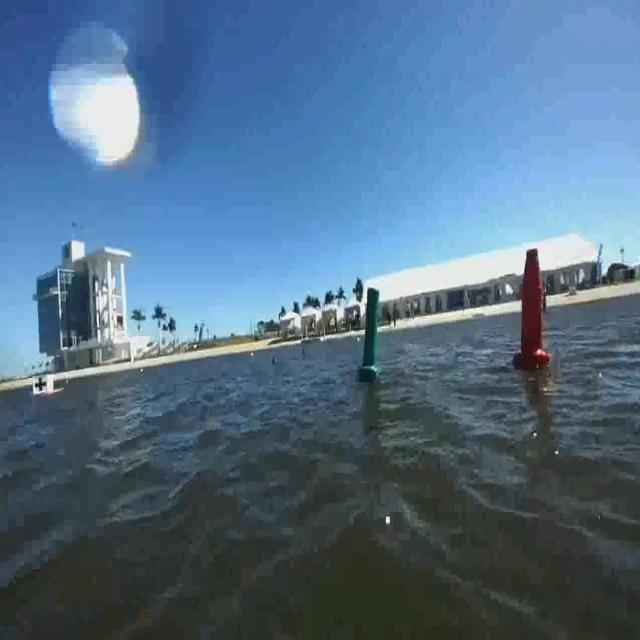green-column-buoy: (358, 285, 384, 382)
red-column-buoy: (513, 246, 551, 370)
